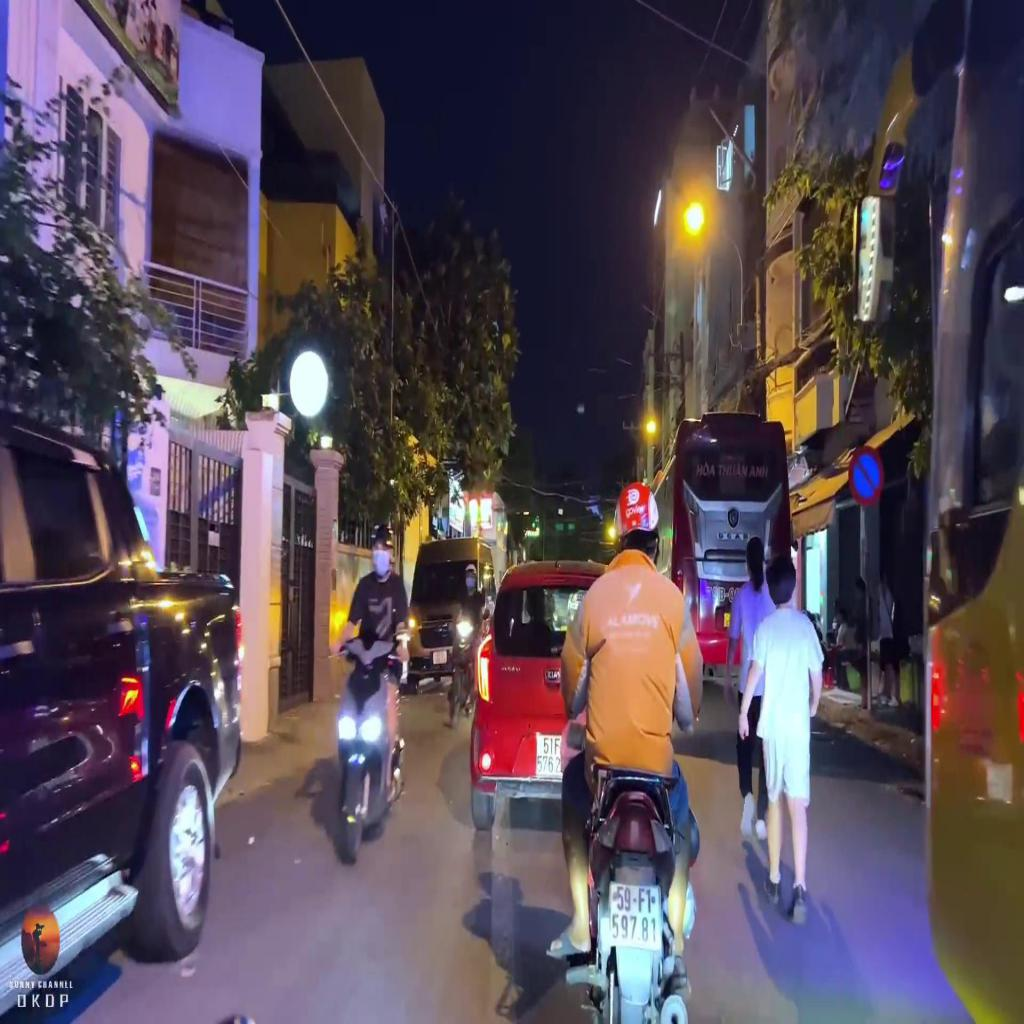cam_do_xe: (848, 446, 884, 509)
